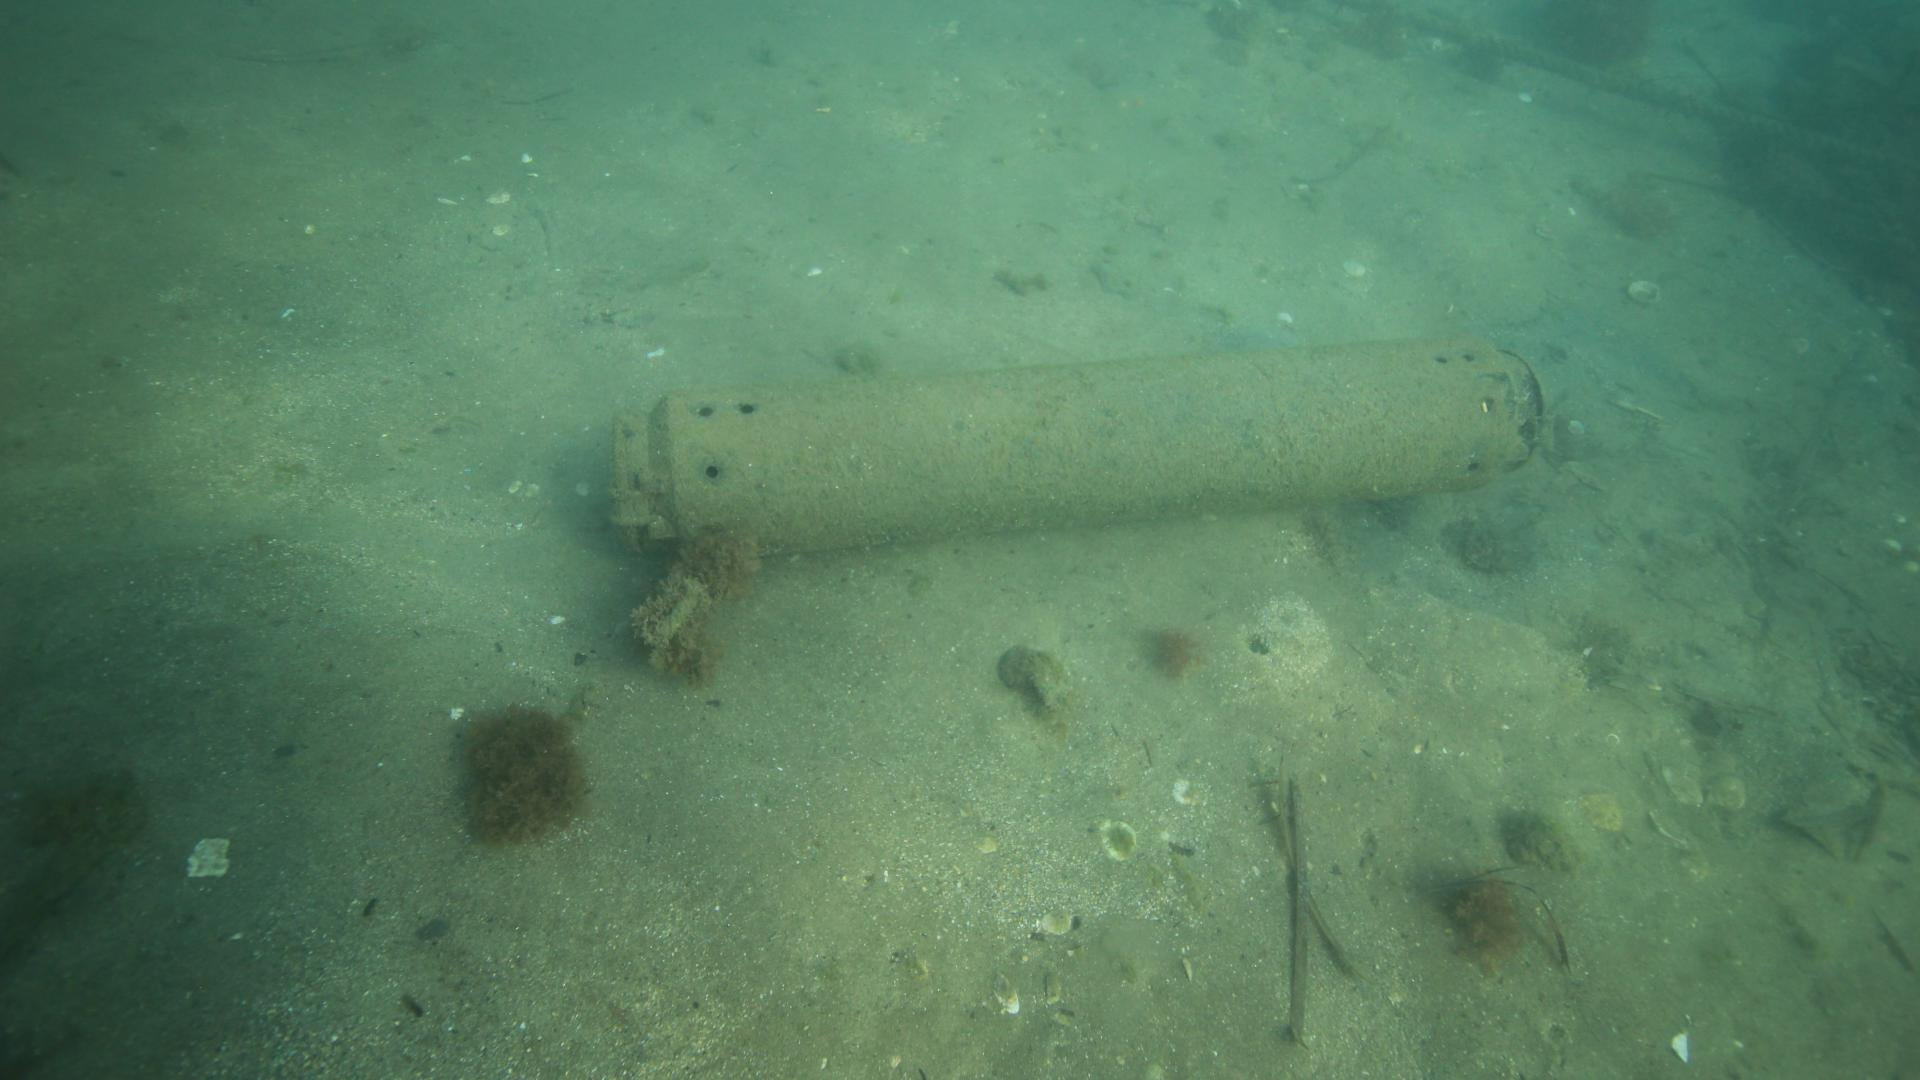eel fish trap: (608, 334, 1553, 564)
